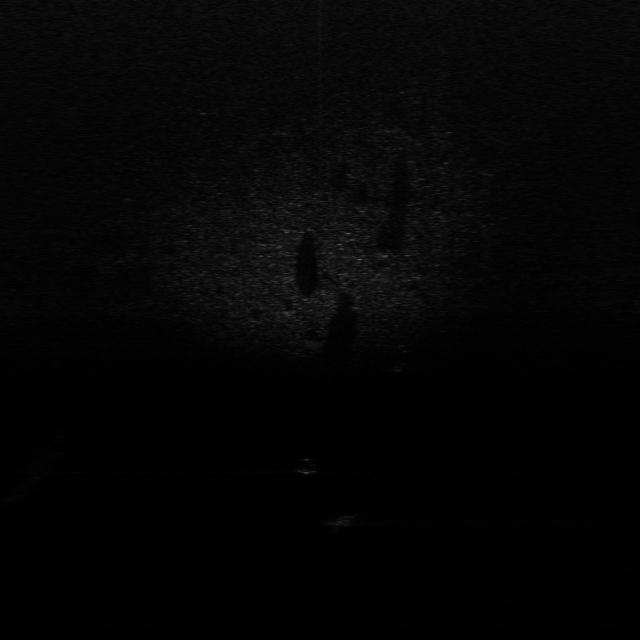ball: (288, 454, 327, 478)
square cage: (311, 511, 363, 530)
tyre: (381, 343, 412, 374)
